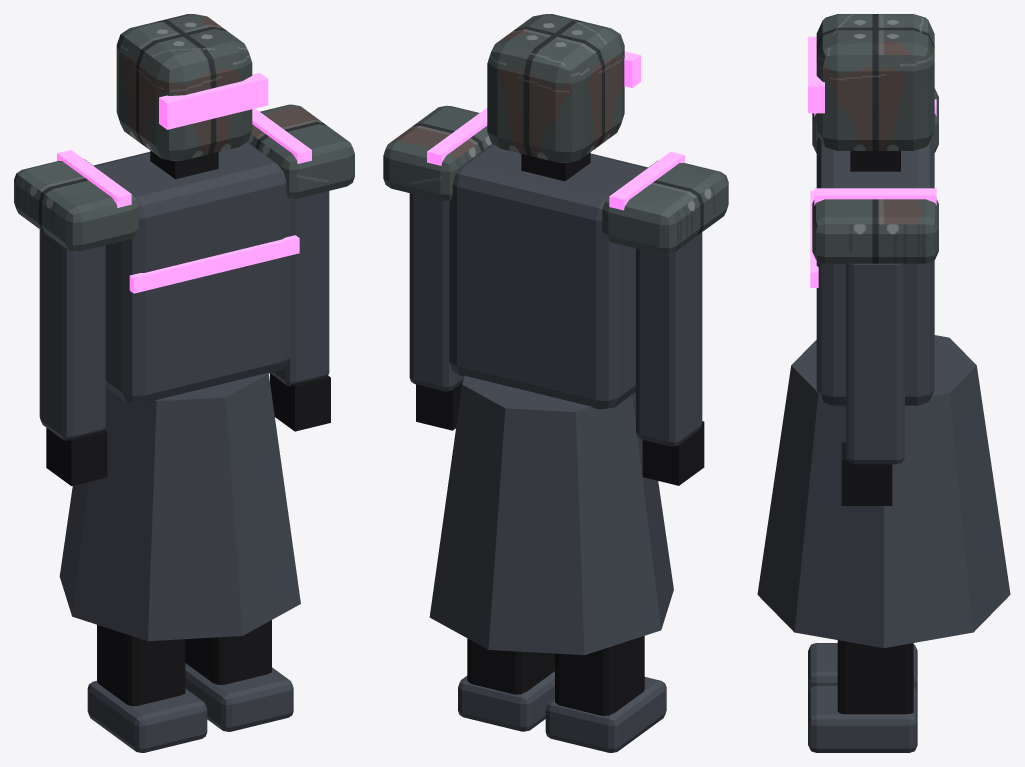
The model's file is hunter_rival_red.glb.
3 renders of one model, left to right at view 1: azimuth 30°, elevation 25°; view 2: azimuth 150°, elevation 25°; view 3: azimuth 270°, elevation 25°, orthographic.
Parts seen in each view (by area): view 1: hunter_rival_red; view 2: hunter_rival_red; view 3: hunter_rival_red.
Part boxes in pixels (<box>): hunter_rival_red: <box>14,14,354,752</box>; hunter_rival_red: <box>383,14,728,752</box>; hunter_rival_red: <box>757,14,1010,752</box>.
Size of the model in its own units: 0.8 by 1.8 by 0.6.
4 materials, 1 textured.
